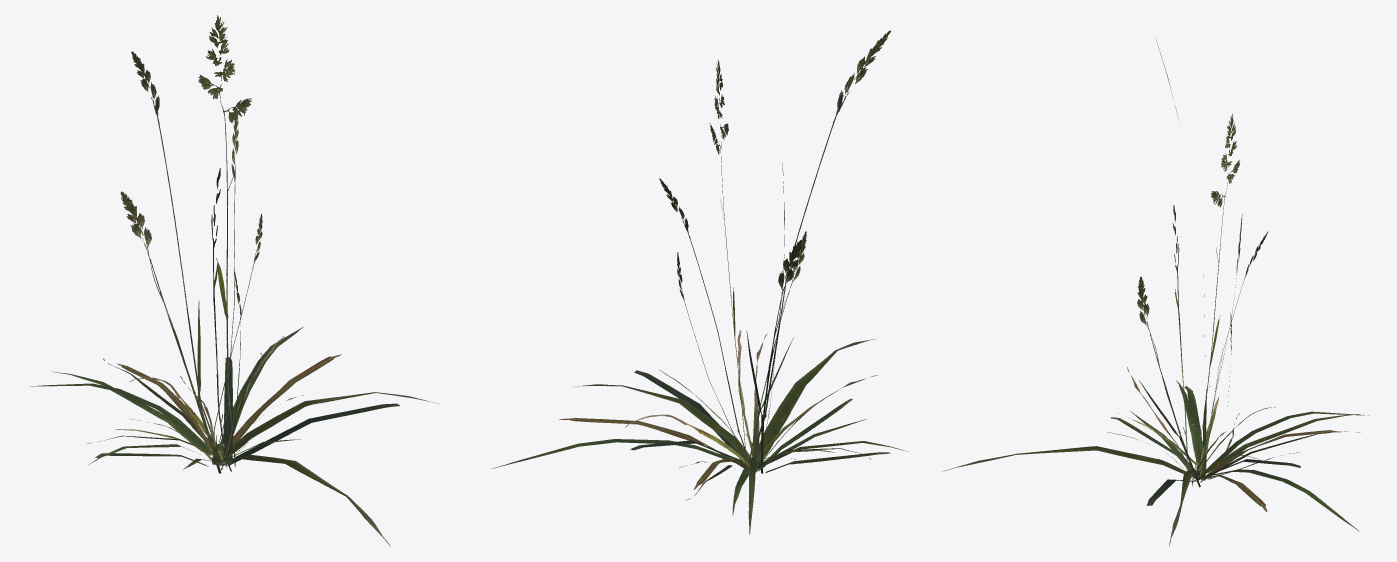
File: gv_flower.glb
3 views of the same model, side by side, from view 1: azimuth 30°, elevation 25°; view 2: azimuth 150°, elevation 25°; view 3: azimuth 270°, elevation 25° (orthographic). The views are drawn at different scales.
Parts seen in each view (by area): view 1: 0_5.001; view 2: 0_5.001; view 3: 0_5.001.
Boxes of the visible parts, x1,y1,x2,y2 form: 0_5.001: (30,15,439,546); 0_5.001: (491,30,908,534); 0_5.001: (942,39,1368,546).
Bounding box in the file's own units: 0.5272 × 0.6876 × 0.6598.
1 material, 1 textured.
